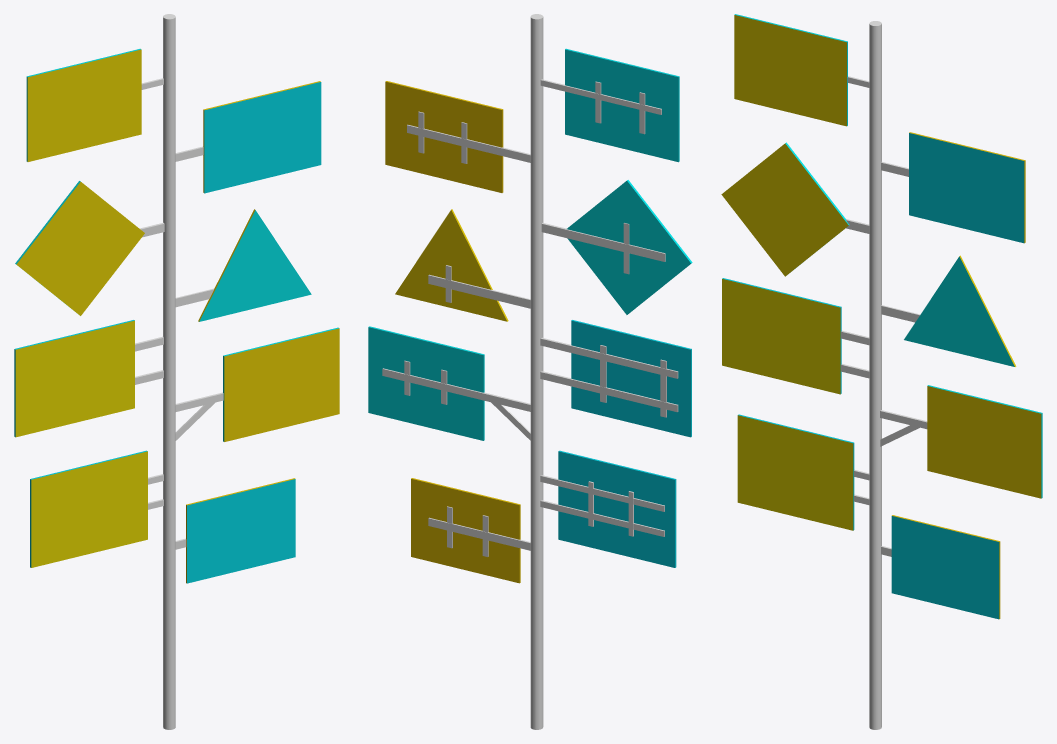
The model's file is pole_003.fbx.
3 views of the same model, side by side, from view 1: azimuth 30°, elevation 25°; view 2: azimuth 150°, elevation 25°; view 3: azimuth 330°, elevation 25° (orthographic).
Visible parts, largest first — view 1: Cube.048, Cube.047, Cube.027, Cube.042, Cube.003, Cylinder.001, Cube.037, Cube.040, Cube.052; view 2: Cylinder.001, Cube.027, Cube.047, Cube.003, Cube.042, Cube.048, Cube.037, Cube.040, Cube.052, Cube.046, Cube.041, Cube.053 (+7 smaller); view 3: Cube.048, Cube.047, Cube.027, Cube.042, Cube.003, Cylinder.001, Cube.037, Cube.040, Cube.052.
Boxes of the visible parts, bbox=[...] form: Cube.048: bbox=[14, 320, 134, 437]; Cube.047: bbox=[30, 450, 147, 567]; Cube.027: bbox=[223, 327, 339, 441]; Cube.042: bbox=[203, 81, 321, 193]; Cube.003: bbox=[26, 48, 141, 161]; Cylinder.001: bbox=[163, 14, 175, 729]; Cube.037: bbox=[15, 181, 144, 315]; Cube.040: bbox=[186, 478, 295, 583]; Cube.052: bbox=[198, 209, 311, 321]; Cylinder.001: bbox=[530, 14, 543, 729]; Cube.027: bbox=[368, 326, 484, 440]; Cube.047: bbox=[558, 450, 676, 567]; Cube.003: bbox=[565, 48, 679, 162]; Cube.042: bbox=[385, 81, 503, 192]; Cube.048: bbox=[571, 320, 691, 437]; Cube.037: bbox=[567, 180, 692, 314]; Cube.040: bbox=[411, 478, 520, 583]; Cube.052: bbox=[395, 209, 508, 321]; Cube.046: bbox=[382, 368, 530, 411]; Cube.041: bbox=[541, 223, 665, 261]; Cube.053: bbox=[540, 337, 678, 378]; Cube.048: bbox=[722, 278, 841, 394]; Cube.047: bbox=[737, 414, 854, 530]; Cube.027: bbox=[927, 385, 1042, 498]; Cube.042: bbox=[909, 132, 1025, 243]; Cube.003: bbox=[734, 14, 847, 126]; Cylinder.001: bbox=[869, 21, 881, 729]; Cube.037: bbox=[721, 142, 849, 276]; Cube.040: bbox=[891, 515, 1000, 619]; Cube.052: bbox=[904, 255, 1016, 366].
Size of the model in its own units: 1875 by 3938 by 63.13.
